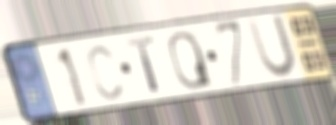1: (54, 45, 89, 108)
7: (212, 18, 246, 89)
C: (85, 43, 124, 103)
Q: (166, 29, 216, 92)
T: (124, 34, 163, 95)
U: (244, 11, 301, 81)
